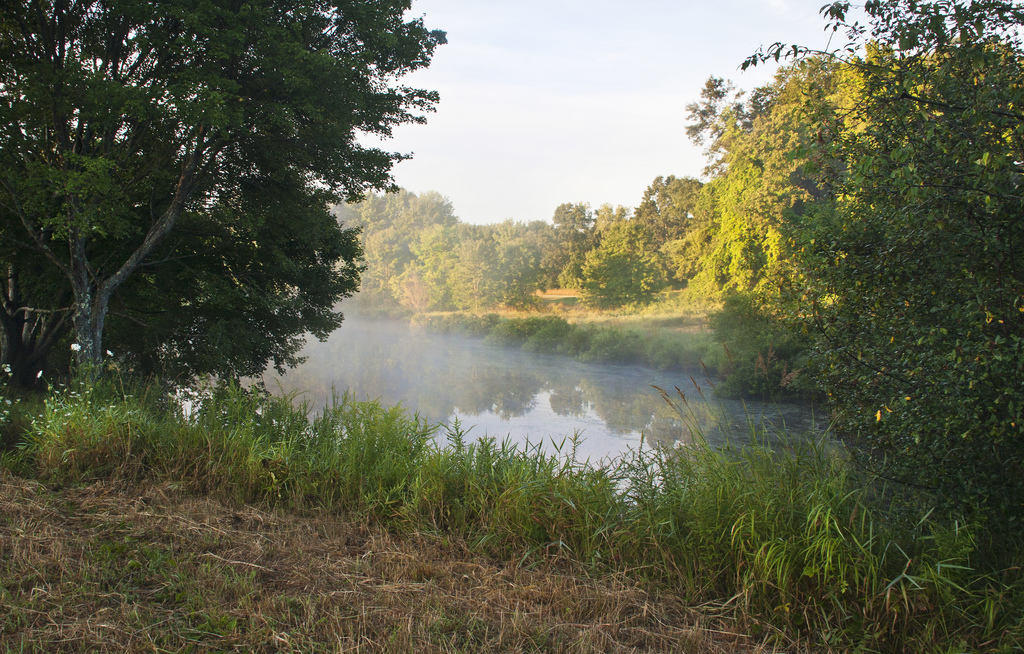Tree: (430, 0, 1023, 653), (53, 27, 437, 416)
